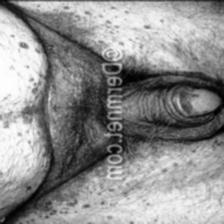Toxin: (172, 81, 222, 117), (10, 110, 42, 126), (11, 35, 31, 51)
